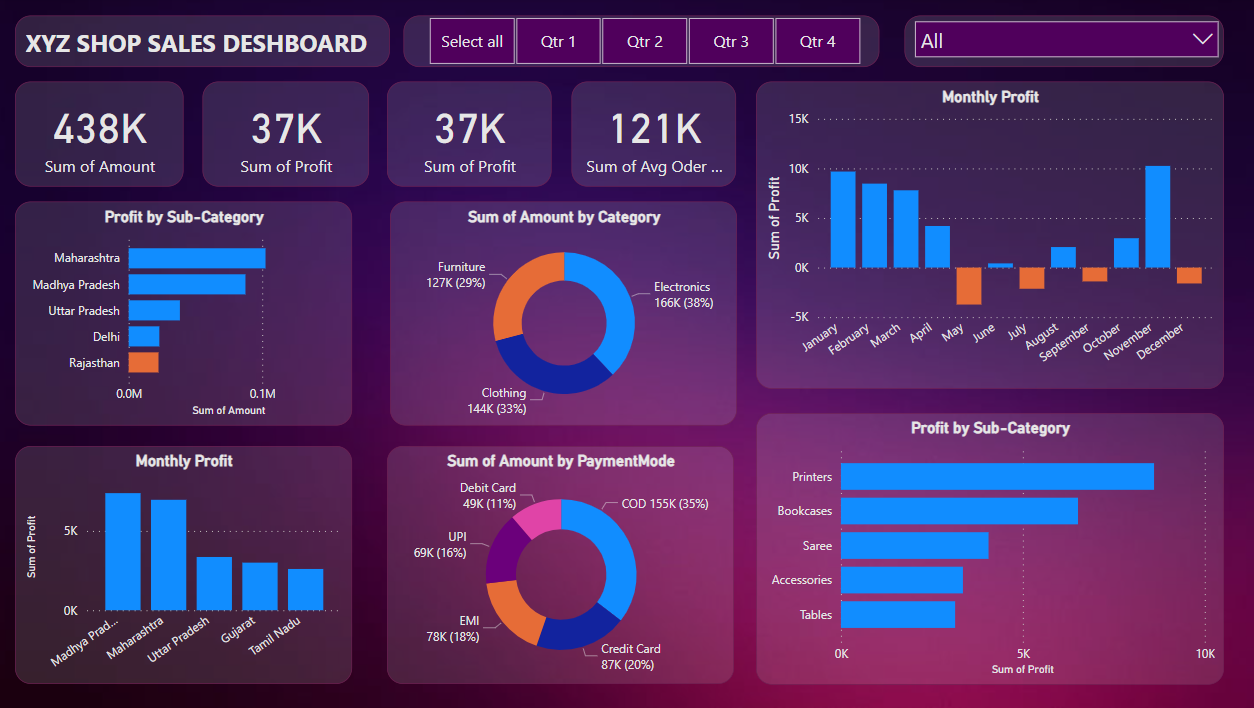

The page's visual inventory and layout, read from the dashboard file:
{"tool":"powerbi","page":{"name":"Page 1","canvas":[1280,720],"ordinal":0},"visuals":[{"type":"textbox","box":[24,20,378,52],"z":0},{"type":"columnChart","title":"Monthly Profit","fields":{"Y":["Sum(Details.Profit)"],"Category":["Orders.Order Date.Variation.Date Hierarchy.Month"]},"box":[772,86,472,310],"z":1000},{"type":"barChart","title":"Profit by Sub-Category","fields":{"Category":["Details.Sub-Category"],"Y":["Sum(Details.Profit)"]},"box":[772,420,472,274],"z":2000},{"type":"donutChart","fields":{"Category":["Details.Category"],"Y":["Sum(Details.Amount)"]},"box":[402,208,350,226],"z":3000},{"type":"donutChart","fields":{"Y":["Sum(Details.Amount)"],"Category":["Details.PaymentMode"]},"box":[400,454,350,240],"z":4000},{"type":"card","fields":{"Values":["Sum(Details.Amount)"]},"box":[24,86,170,106],"z":5000},{"type":"card","fields":{"Values":["Sum(Details.Profit)"]},"box":[214,86,168,106],"z":6000},{"type":"card","fields":{"Values":["Sum(Details.Profit)"]},"box":[400,86,166,106],"z":7000},{"type":"card","fields":{"Values":["Sum(Details.Avg Oder Value)"]},"box":[586,86,166,106],"z":8000},{"type":"barChart","title":"Profit by Sub-Category","fields":{"Category":["Orders.State"],"Y":["Sum(Details.Amount)"]},"box":[24,208,340,226],"z":9000},{"type":"columnChart","title":"Monthly Profit","fields":{"Y":["Sum(Details.Profit)"],"Category":["Orders.State"]},"box":[24,454,340,240],"z":10000},{"type":"slicer","fields":{"Values":["Orders.Order Date.Variation.Date Hierarchy.Quarter"]},"box":[416,20,480,52],"z":11000},{"type":"slicer","fields":{"Values":["Orders.State"]},"box":[922,20,322,52],"z":11001}]}

Visuals, with their boxes in screenshot pixels (x1, y1, x2, y2), scaled from the page's 1280x720 canvas onto the 1254x708 screenshot:
textbox: l=24, t=20, r=394, b=71
"Monthly Profit" columnChart: l=756, t=85, r=1219, b=389
"Profit by Sub-Category" barChart: l=756, t=413, r=1219, b=682
donutChart - Details.Category x Sum(Details.Amount): l=394, t=205, r=737, b=427
donutChart - Sum(Details.Amount) x Details.PaymentMode: l=392, t=446, r=735, b=682
card - Sum(Details.Amount): l=24, t=85, r=190, b=189
card - Sum(Details.Profit): l=210, t=85, r=374, b=189
card - Sum(Details.Profit): l=392, t=85, r=555, b=189
card - Sum(Details.Avg Oder Value): l=574, t=85, r=737, b=189
"Profit by Sub-Category" barChart: l=24, t=205, r=357, b=427
"Monthly Profit" columnChart: l=24, t=446, r=357, b=682
slicer - Orders.Order Date.Variation.Date Hierarchy.Quarter: l=408, t=20, r=878, b=71
slicer - Orders.State: l=903, t=20, r=1219, b=71
